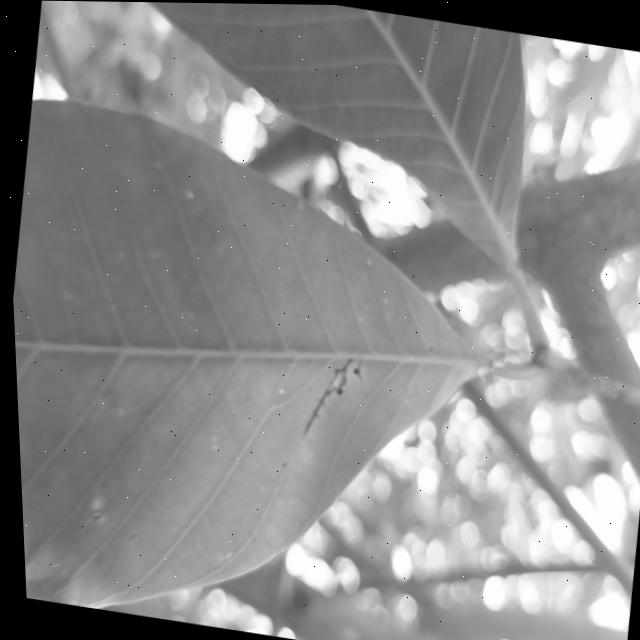Corynespora: (297, 351, 353, 441)
